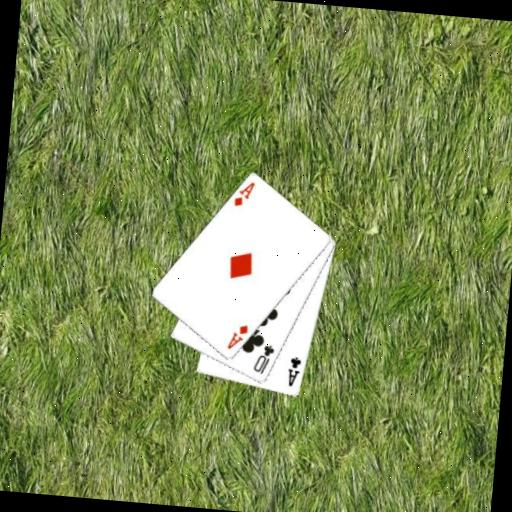10C: (250, 341, 276, 377)
AC: (284, 354, 303, 389)
AD: (224, 321, 251, 353), (230, 178, 257, 210)
